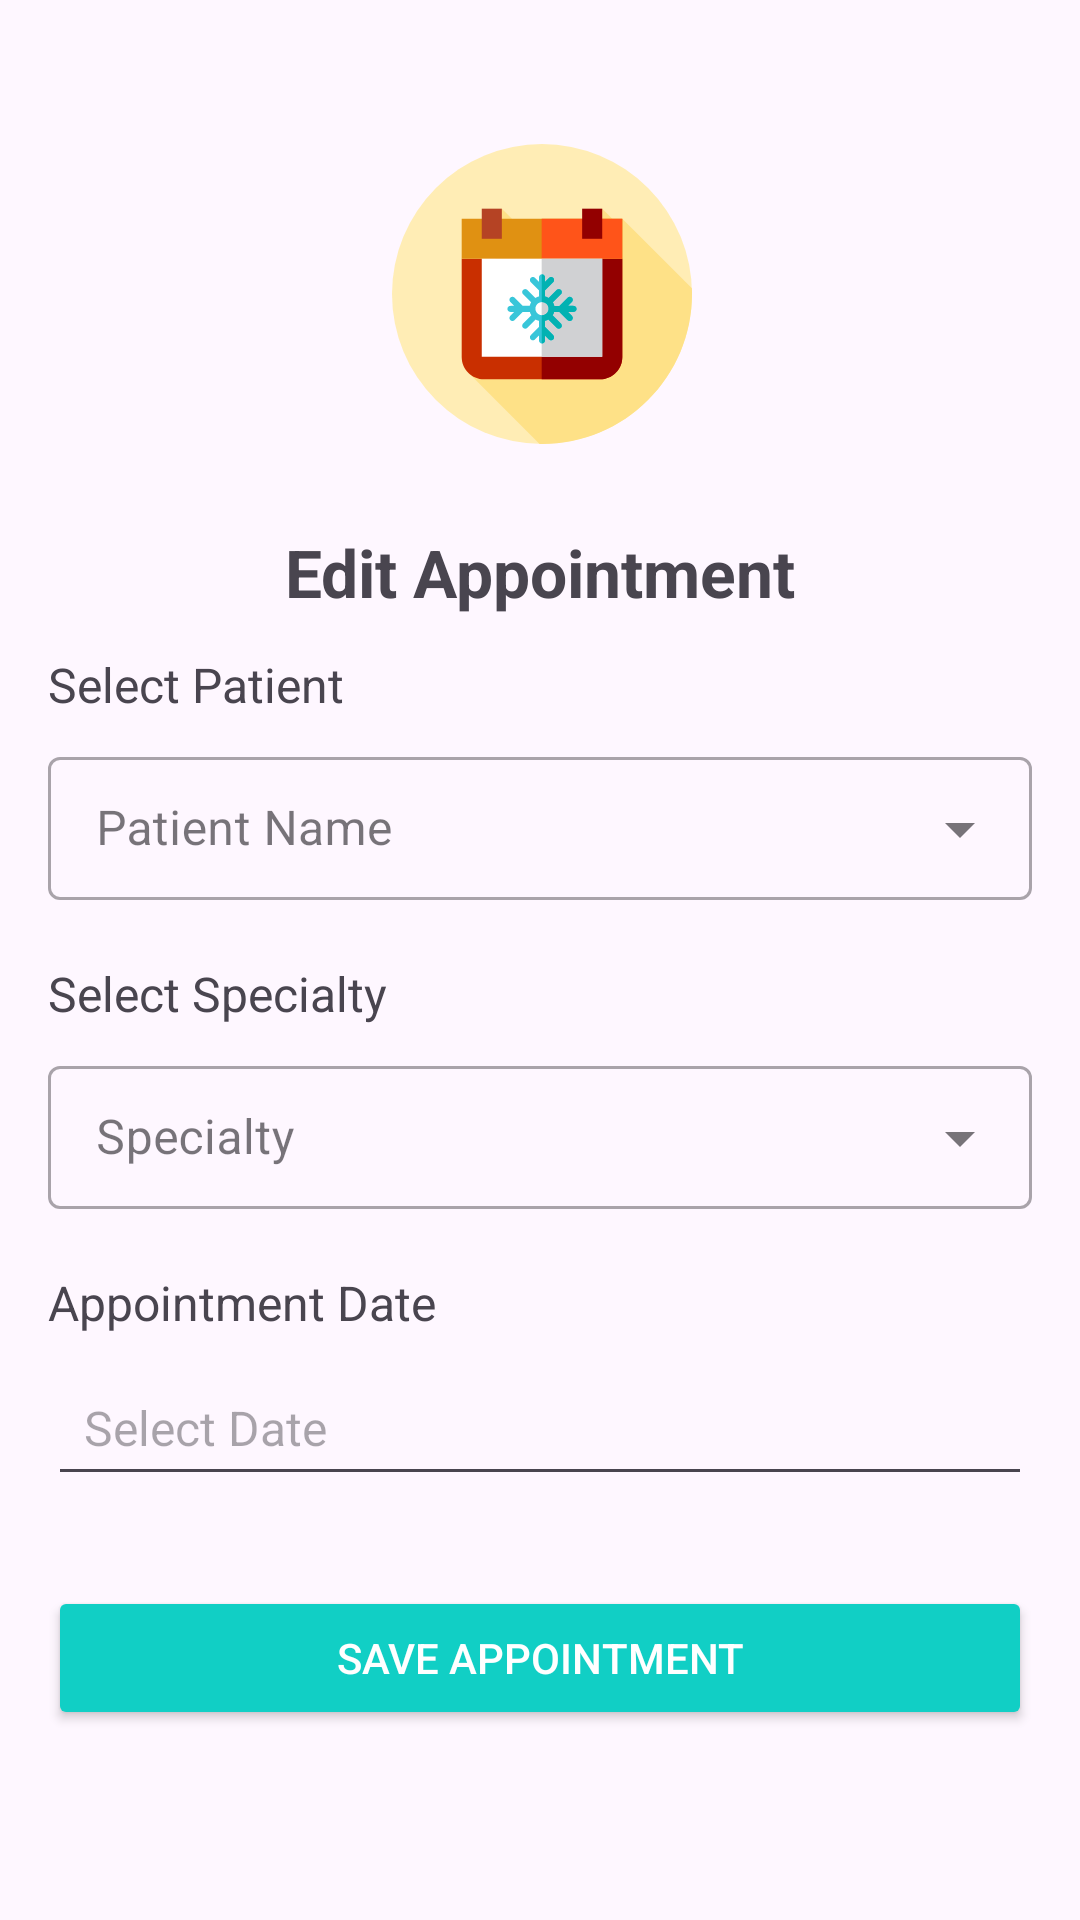

Named icons in this screenshot (1080 x 1920) and their centers, (x=x, y=y):
christmas day appointment: (x=542, y=294)
